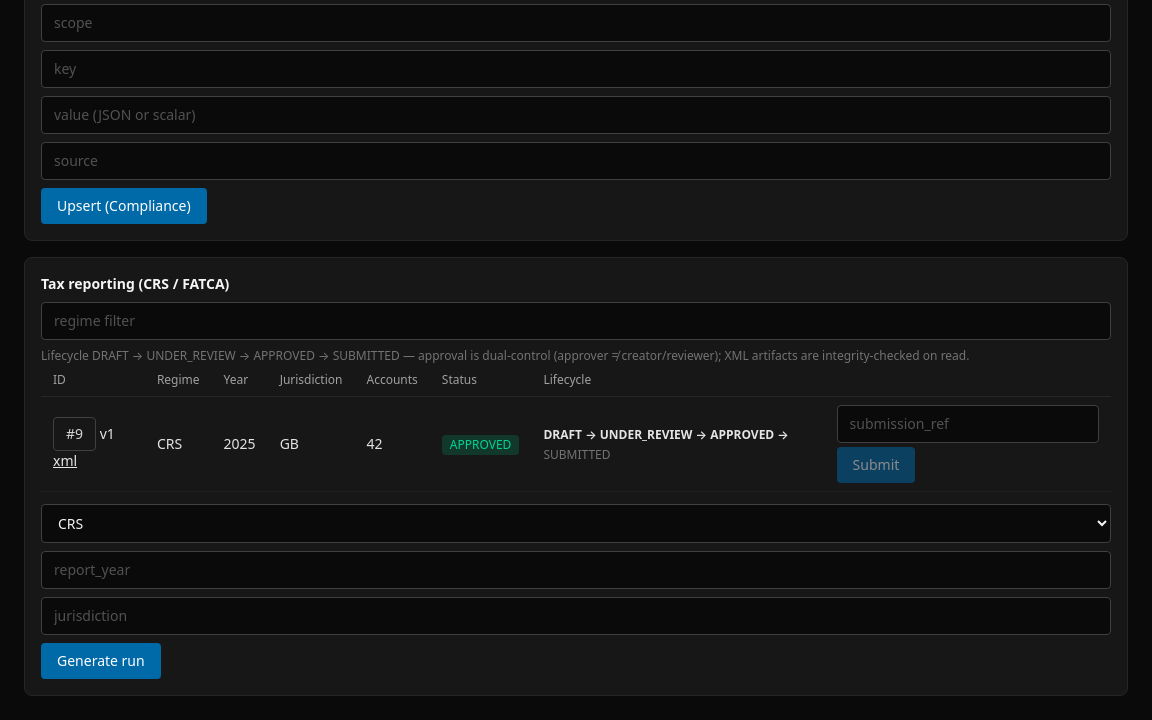
FinancePage › drives a tax run from UNDER_REVIEW through approve to submission
(page scrolled)
Expected: the text "APPROVED" is shown, [442,434,519,454]
Type "HMRC-2026-001" into the field named "Submission ref for run 9" at [968, 424], box [837,405,1099,443]
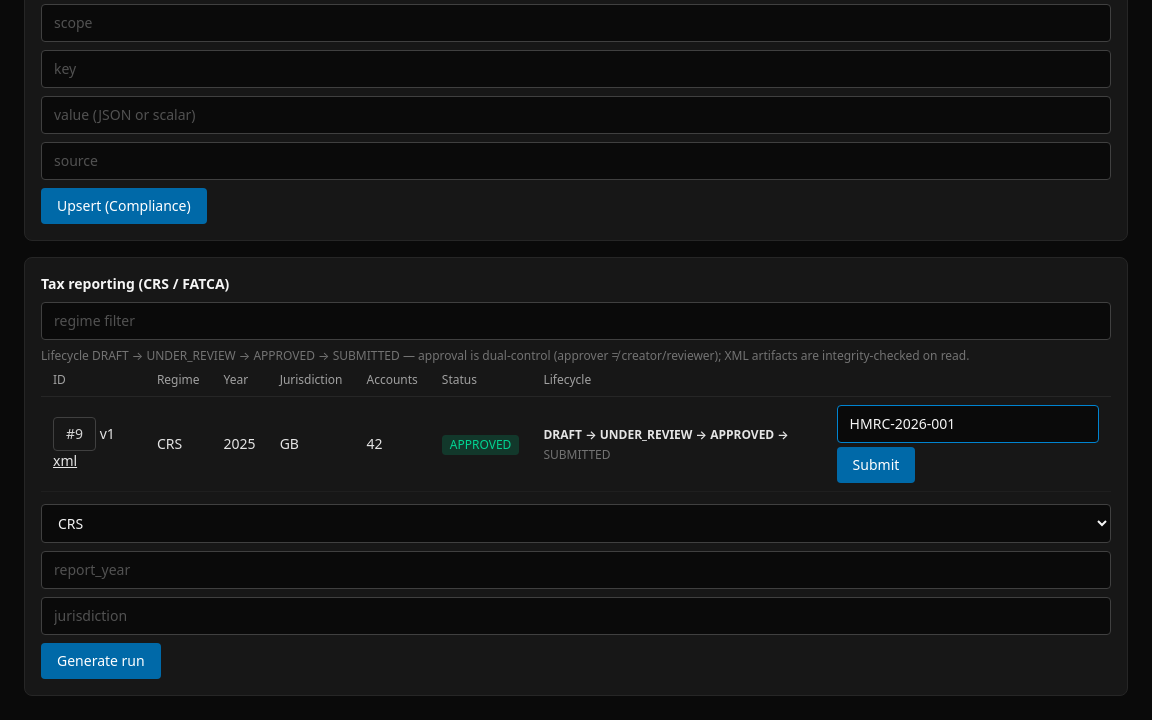
Click the button "Submit" at [876, 465], box [837,447,915,483]
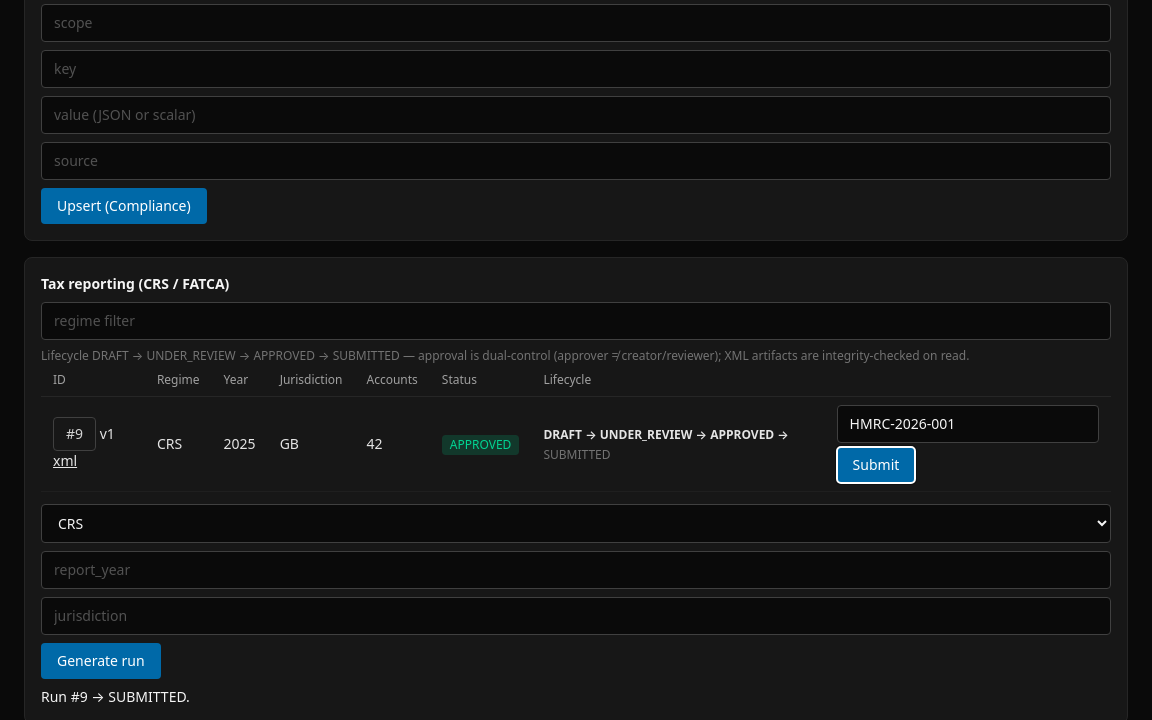
Now the text "Run #9 → SUBMITTED." is shown, box [41,687,190,706]
